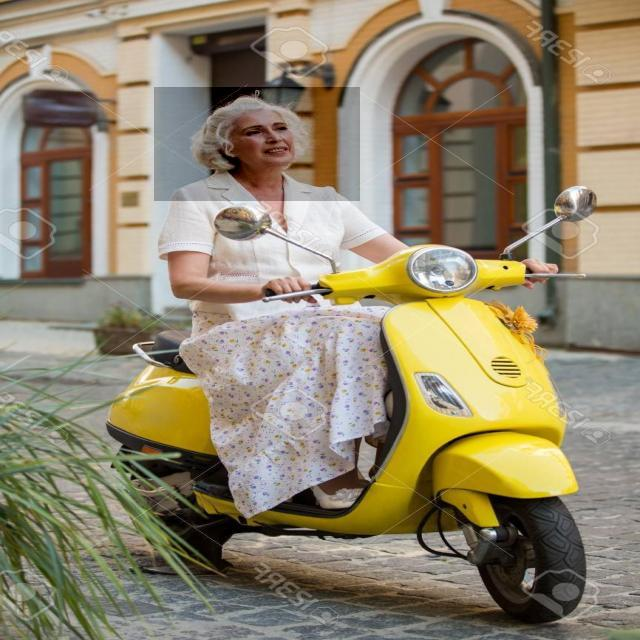No_Helmet: (154, 88, 360, 202)
